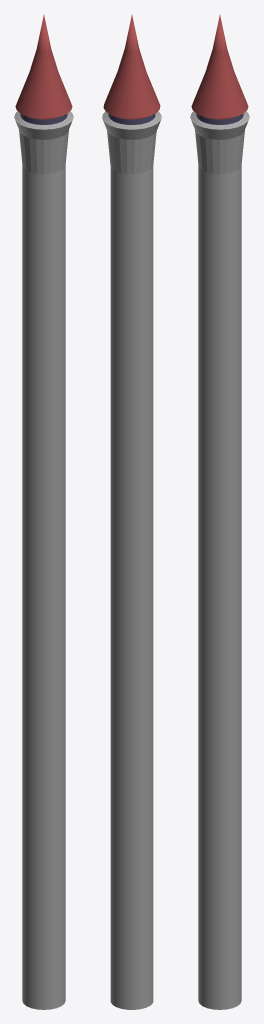
Rendered from TallTower.fbx.
3 renders of one model, left to right at view 1: azimuth 90°, elevation 25°; view 2: azimuth 150°, elevation 25°; view 3: azimuth 270°, elevation 25°, orthographic.
Visible parts, largest first — view 1: TallTowers; view 2: TallTowers; view 3: TallTowers.
Boxes of the visible parts, bbox=[...] form: TallTowers: bbox=[14, 15, 73, 1009]; TallTowers: bbox=[102, 15, 161, 1009]; TallTowers: bbox=[190, 15, 249, 1009].
Bounding box in the file's own units: 7.96 × 145 × 7.96.
